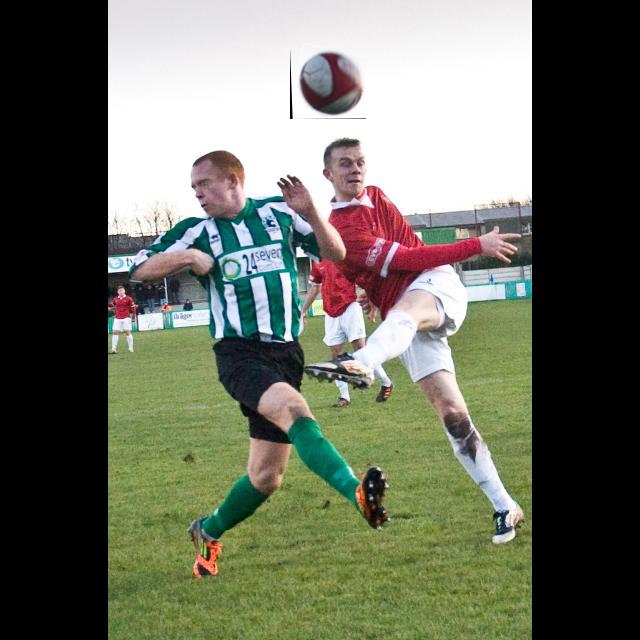Football: (290, 47, 366, 119)
